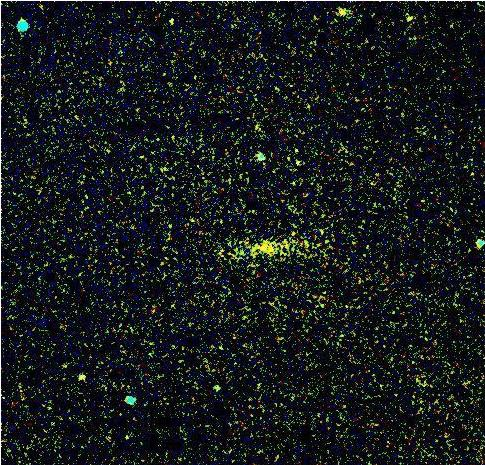star: (327, 0, 357, 27)
